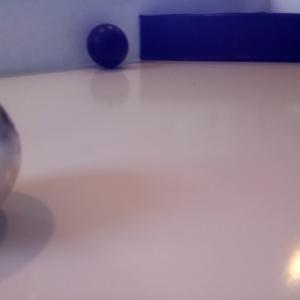zone: (139, 14, 300, 62)
